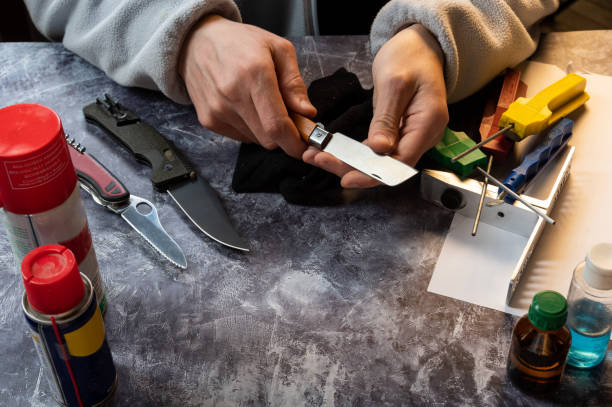knife: (82, 96, 248, 251), (63, 131, 188, 269), (290, 111, 419, 186)
